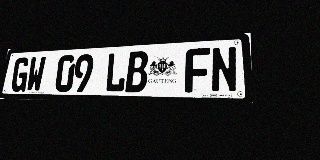0: (54, 55, 76, 92)
9: (72, 54, 94, 92)
B: (125, 51, 149, 92)
F: (185, 47, 210, 93)
G: (10, 57, 30, 92)
L: (104, 52, 127, 92)
N: (211, 46, 238, 93)
W: (25, 56, 46, 92)
